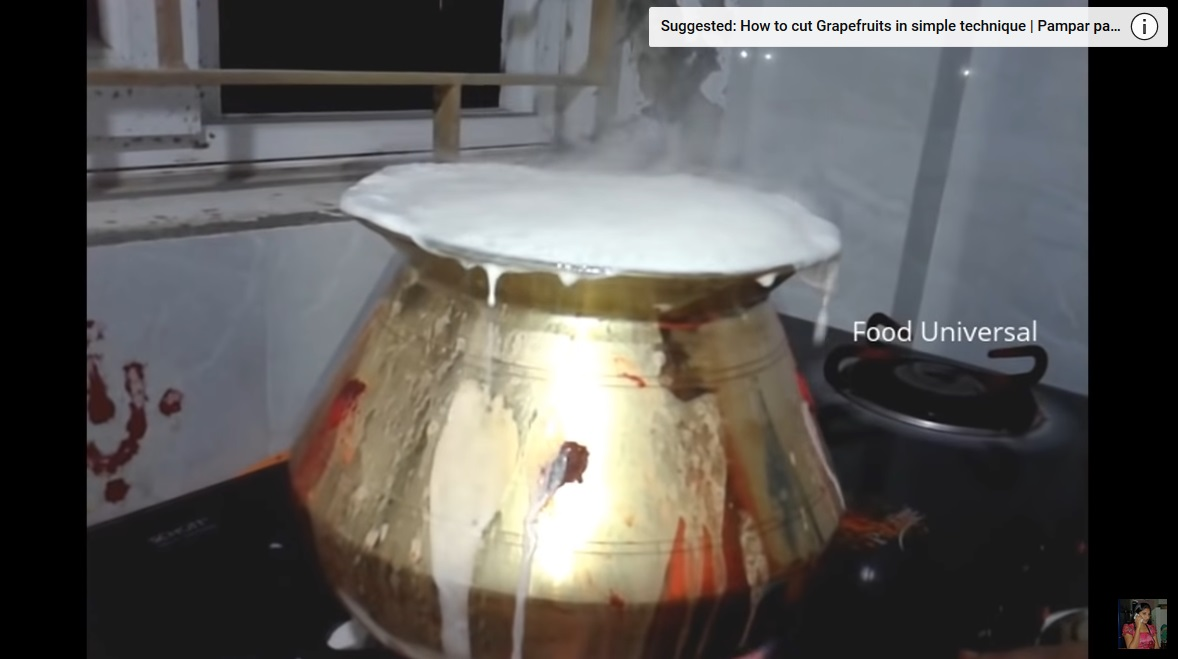Boiled: (320, 131, 862, 475)
